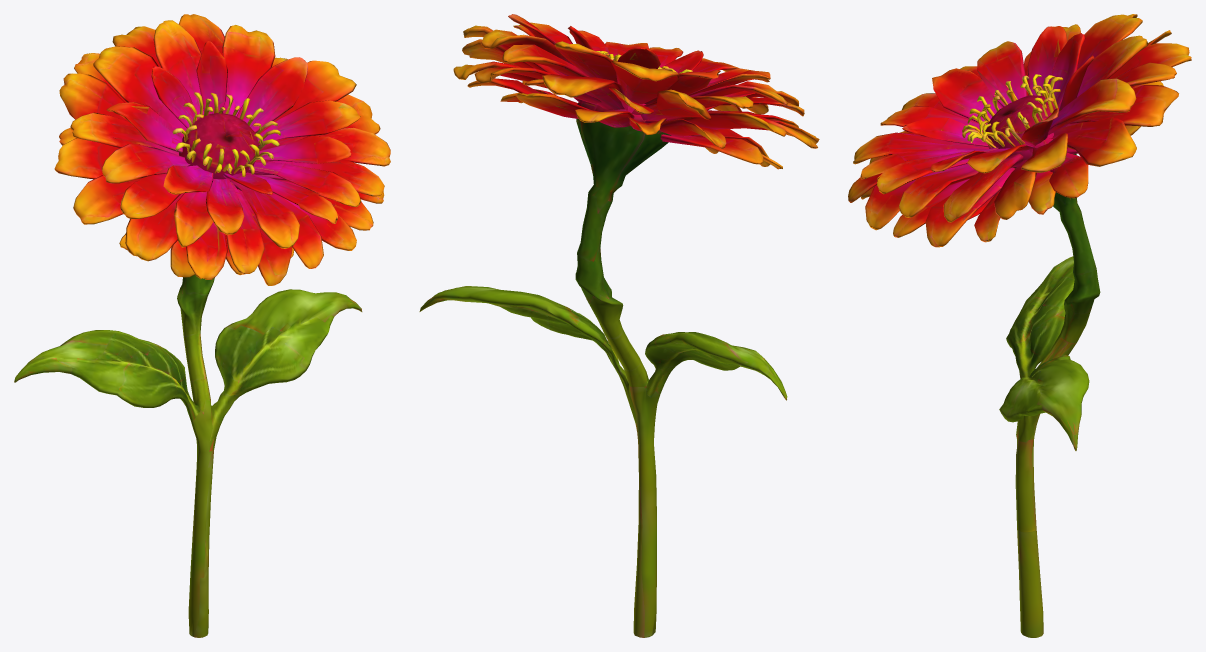
The model's file is zinnia.glb.
3 views of the same model, side by side, from view 1: azimuth 30°, elevation 25°; view 2: azimuth 150°, elevation 25°; view 3: azimuth 270°, elevation 25° (orthographic). The views are drawn at different scales.
Visible parts, largest first — view 1: geometry_0; view 2: geometry_0; view 3: geometry_0.
Part boxes in pixels (bbox=[...]): geometry_0: bbox=[14, 14, 390, 637]; geometry_0: bbox=[419, 14, 819, 637]; geometry_0: bbox=[848, 14, 1191, 637].
Size of the model in its own units: 0.5957 by 0.9517 by 0.4897.
Materials: 1 (1 with a texture image).
